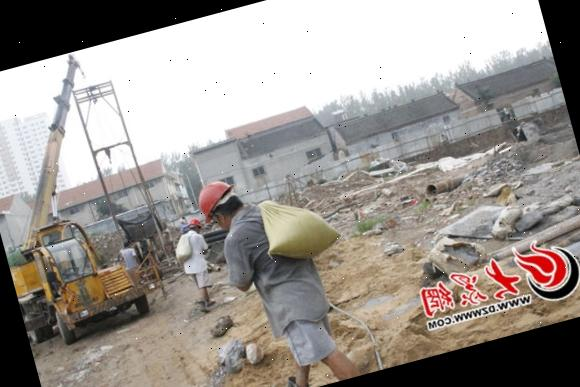helmet: (192, 175, 240, 226), (187, 217, 202, 228)
no_wear: (231, 200, 322, 330), (174, 228, 210, 272)
